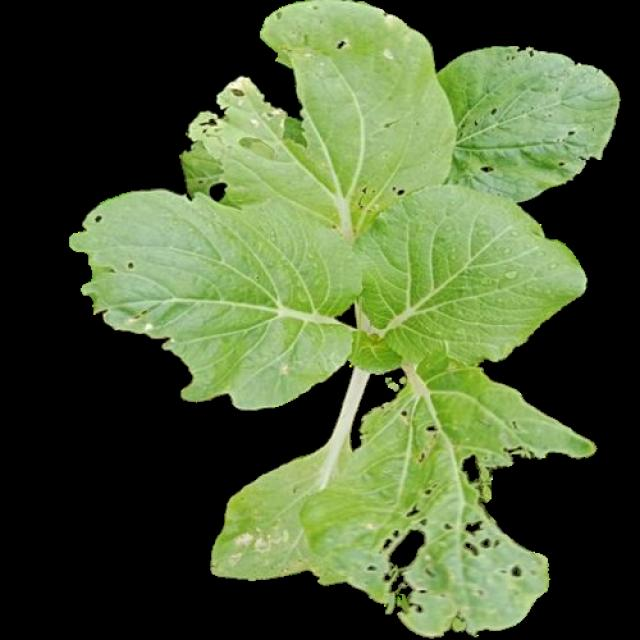not-mature: (70, 1, 621, 640)
unhealthy: (210, 368, 596, 636), (66, 186, 364, 404), (180, 2, 457, 216), (435, 46, 618, 200)
